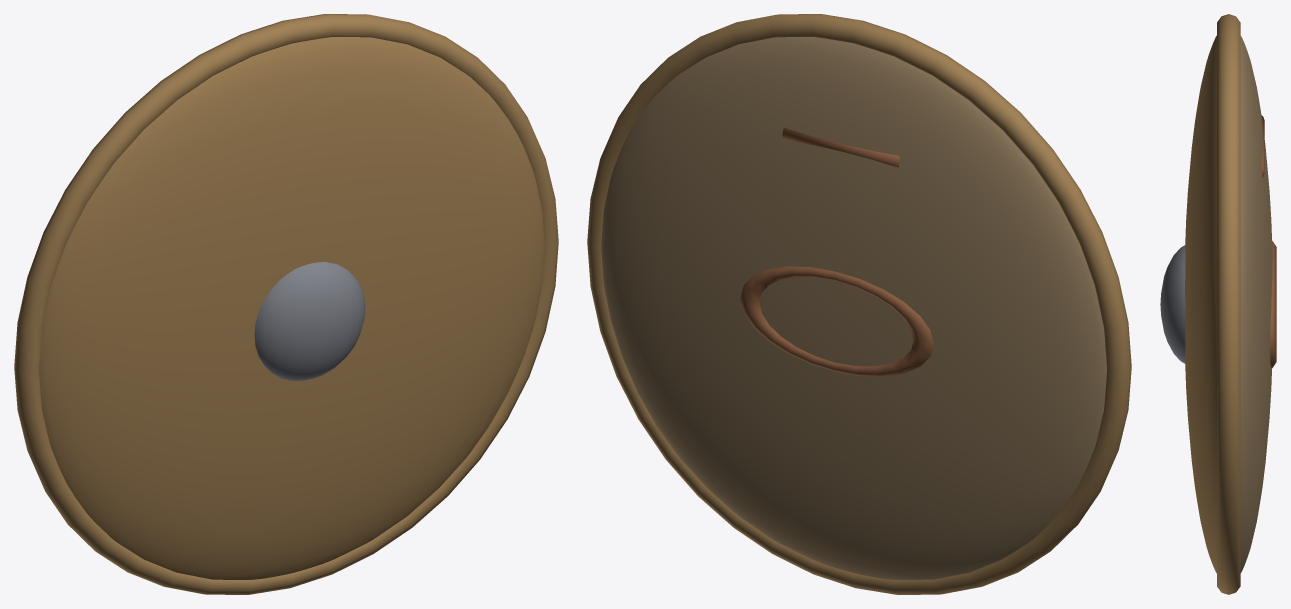
Rendered from shield_round.glb.
3 renders of one model, left to right at view 1: azimuth 30°, elevation 25°; view 2: azimuth 150°, elevation 25°; view 3: azimuth 270°, elevation 25°, orthographic. The views are drawn at different scales.
Visible parts, largest first — view 1: aspis_body, rim, boss; view 2: aspis_body, rim, porpax, grip_bar; view 3: aspis_body, rim, boss, porpax, grip_bar.
Part boxes in pixels (<box>): aspis_body: <box>39,37,544,579</box>; rim: <box>14,14,558,594</box>; boss: <box>254,262,365,381</box>; aspis_body: <box>601,37,1106,579</box>; rim: <box>587,14,1131,594</box>; porpax: <box>740,266,933,376</box>; grip_bar: <box>782,128,899,167</box>; aspis_body: <box>1185,35,1272,573</box>; rim: <box>1217,14,1240,594</box>; boss: <box>1160,245,1185,363</box>; porpax: <box>1270,240,1276,368</box>; grip_bar: <box>1261,115,1264,176</box>.
Bounding box in the file's own units: 0.936 × 0.936 × 0.187.
